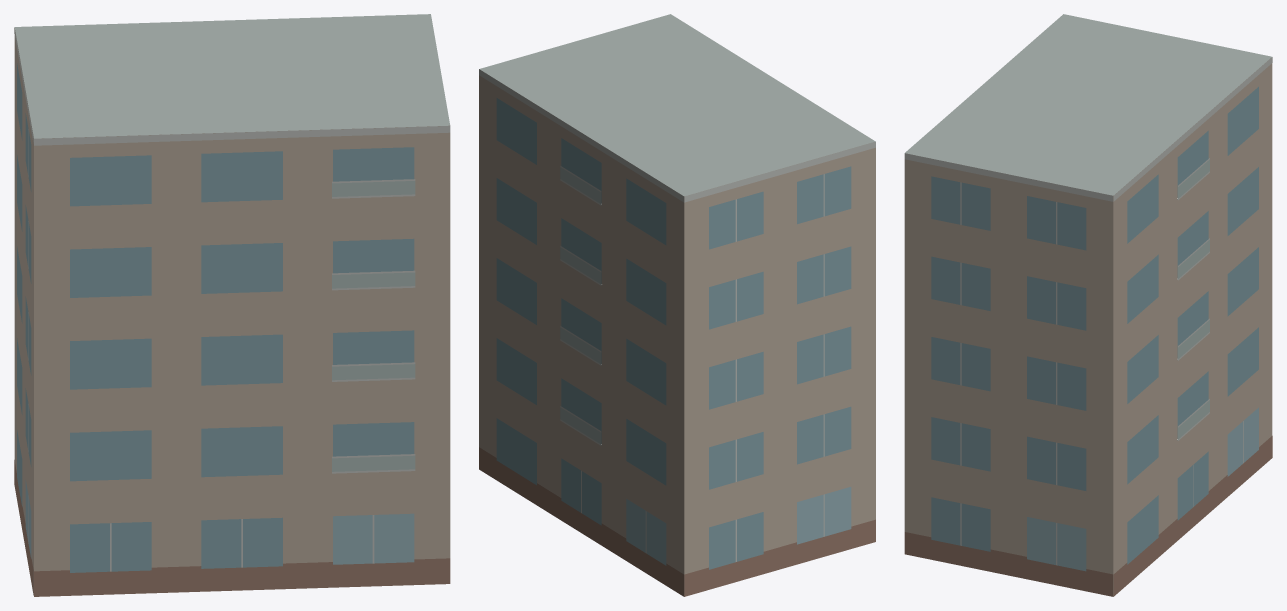
File: survey-upis-32961372.glb
3 renders of one model, left to right at view 1: azimuth 30°, elevation 25°; view 2: azimuth 150°, elevation 25°; view 3: azimuth 270°, elevation 25°, orthographic. The views are drawn at different scales.
Parts seen in each view (by area): view 1: survey-upis-32961372.tmp; view 2: survey-upis-32961372.tmp; view 3: survey-upis-32961372.tmp.
Part boxes in pixels (<box>): survey-upis-32961372.tmp: <box>14,14,450,596</box>; survey-upis-32961372.tmp: <box>479,14,875,596</box>; survey-upis-32961372.tmp: <box>904,14,1272,596</box>.
Size of the model in its own units: 15.46 by 15.9 by 13.23.
